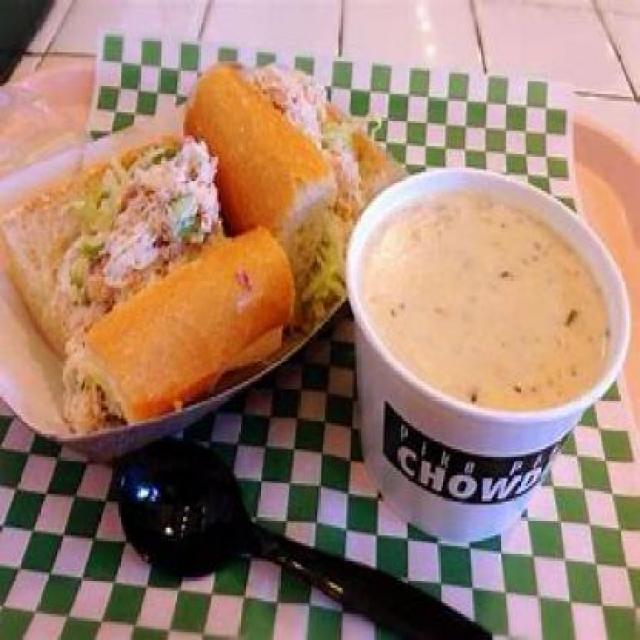clam chowder: (374, 173, 618, 512)
club sandwich: (8, 52, 350, 423)
